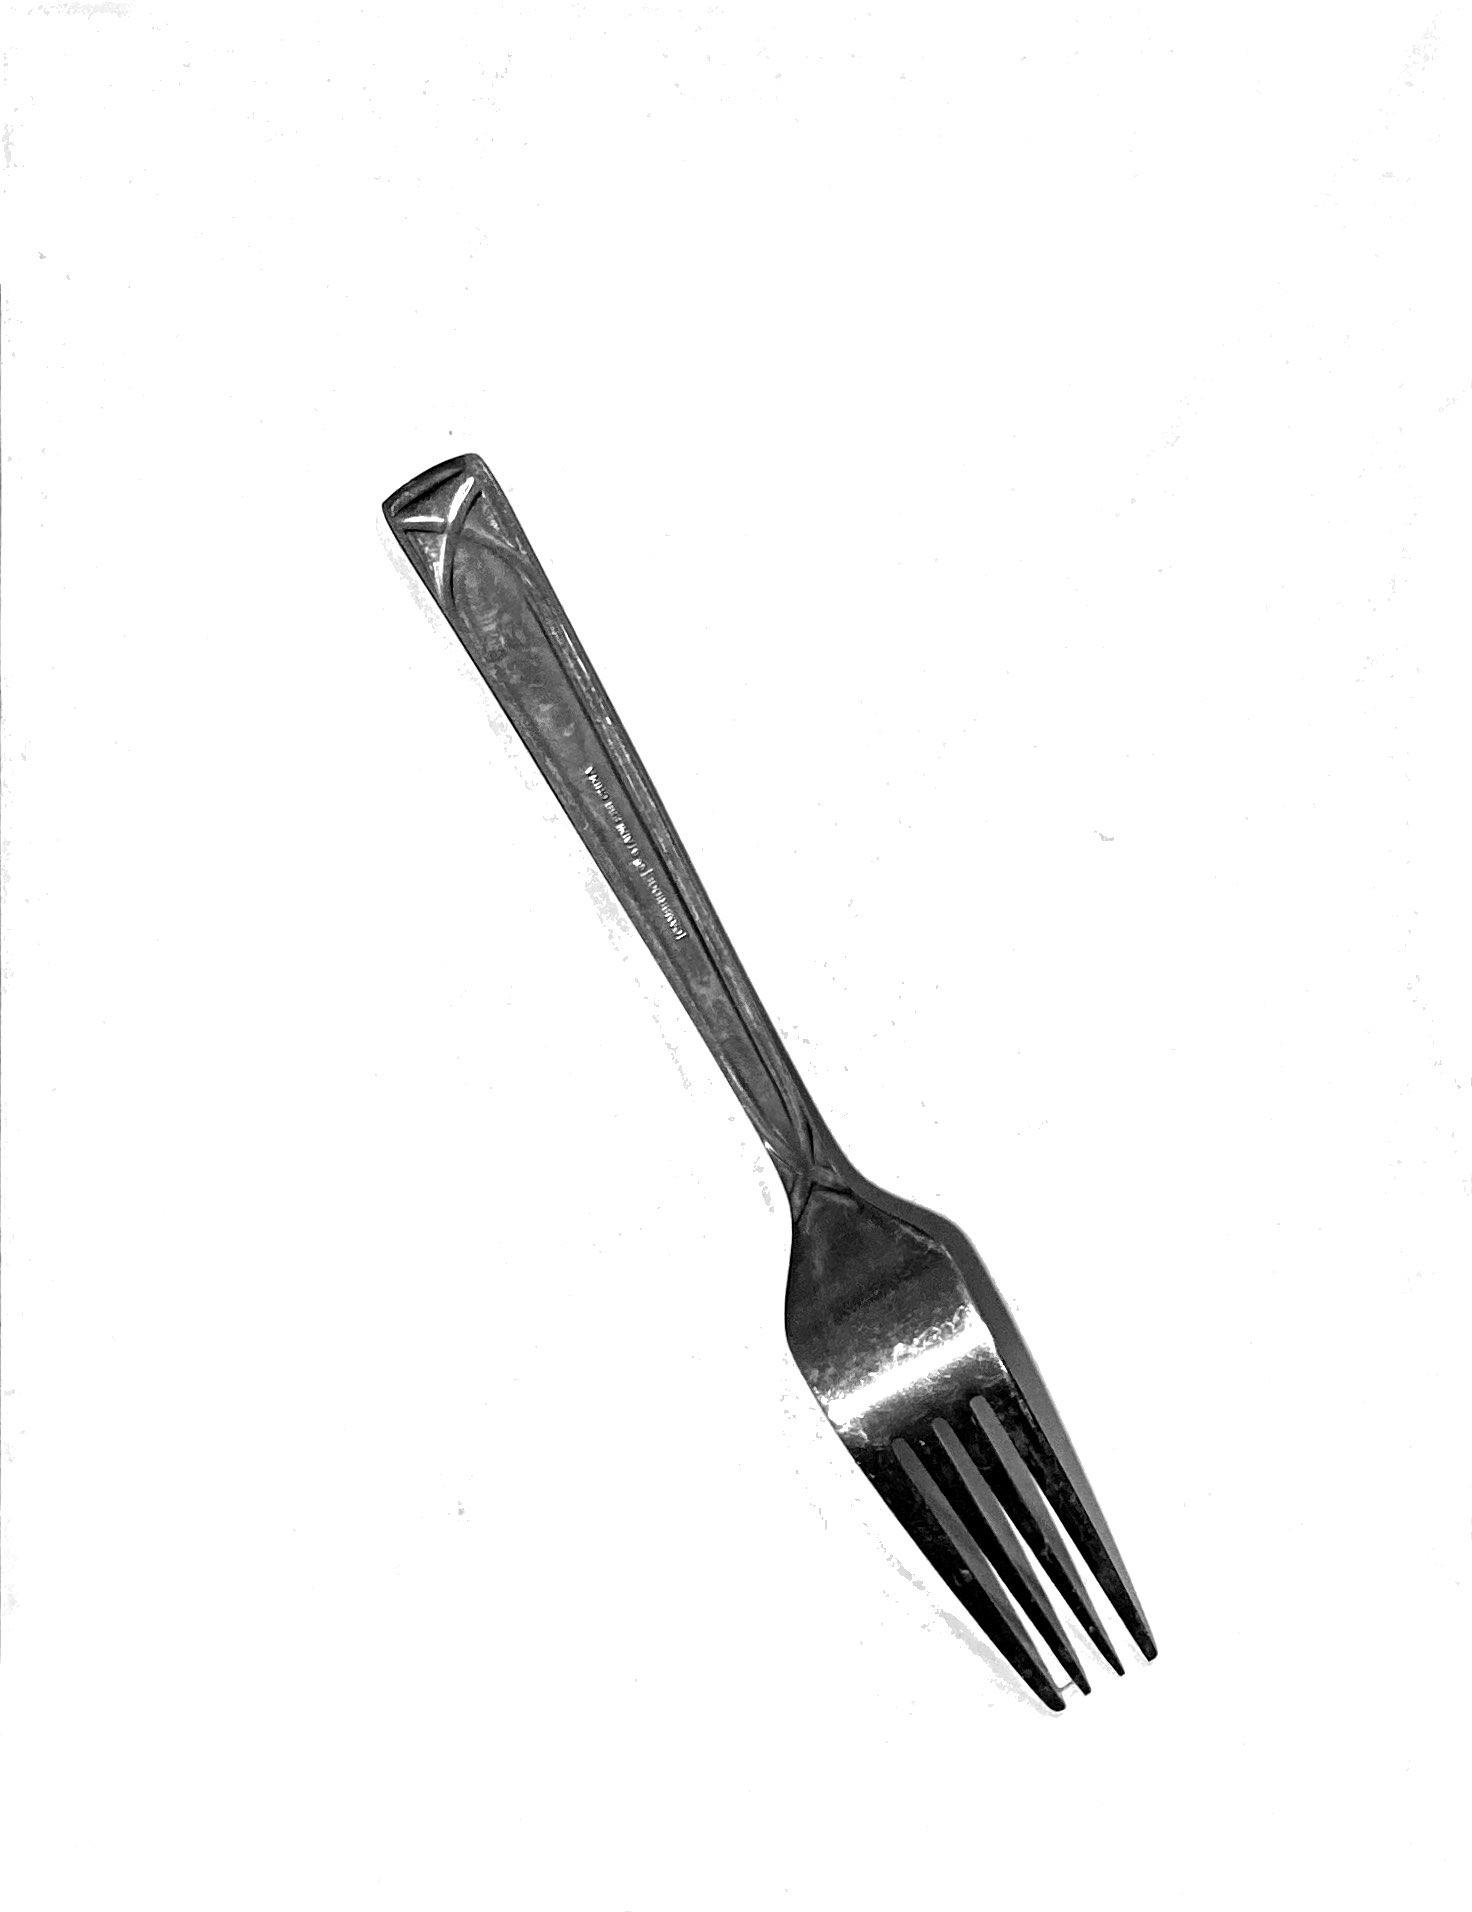Fork: (264, 420, 1265, 1742)
